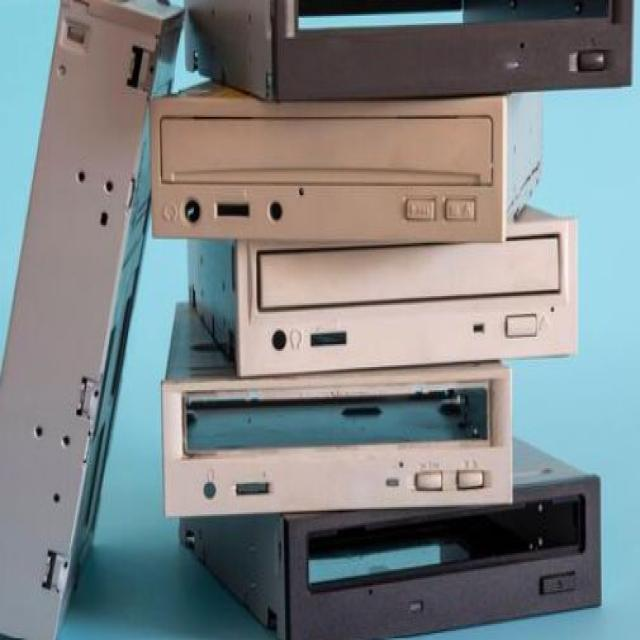electronic: (138, 46, 540, 267), (140, 306, 538, 527), (175, 449, 623, 640), (162, 196, 610, 368)
